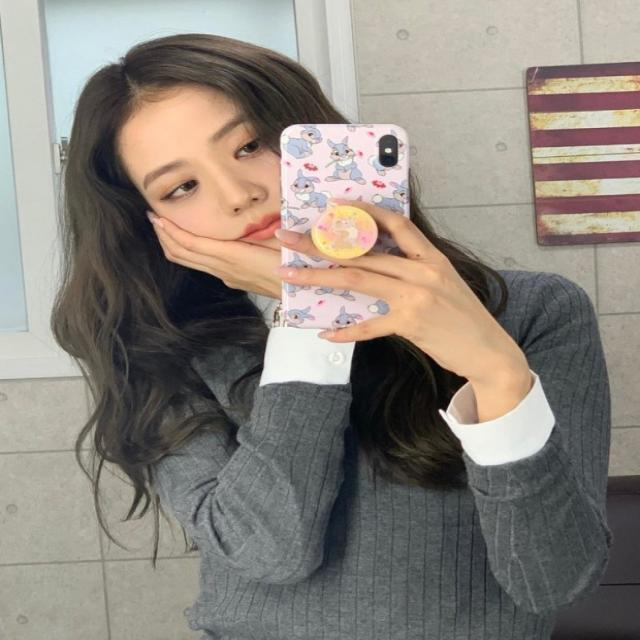lens: (377, 134, 400, 169)
phone: (276, 119, 414, 335)
